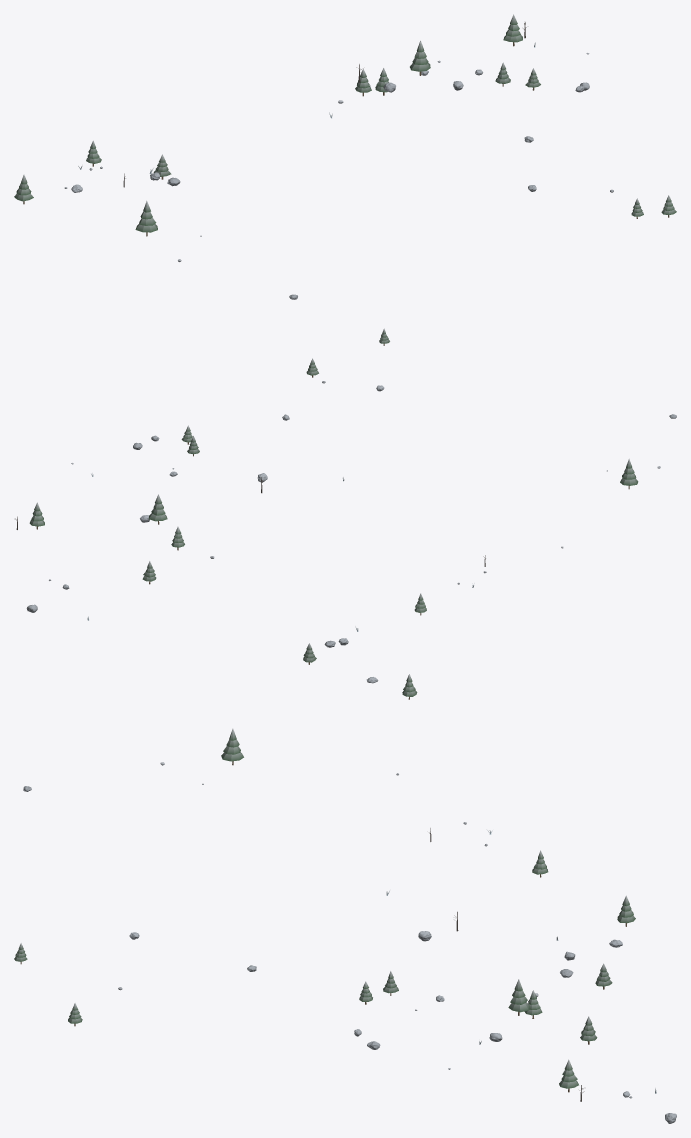
The model's file is frost_land_scatter_c16_09.glb.
The picture shows the model from 3 angles, top to bottom: view 1: azimuth 30°, elevation 25°; view 2: azimuth 150°, elevation 25°; view 3: azimuth 270°, elevation 25°; orthographic projection. The views are drawn at different scales.
Parts seen in each view (by area): view 1: frost_land_scatter_c16_09; view 2: frost_land_scatter_c16_09; view 3: frost_land_scatter_c16_09.
Boxes of the visible parts, box(x1,y1,x2,y2) form: frost_land_scatter_c16_09: box(14, 14, 676, 299); frost_land_scatter_c16_09: box(15, 328, 676, 699); frost_land_scatter_c16_09: box(14, 728, 676, 1123).
Bounding box in the file's own units: 257 × 69.78 × 254.
